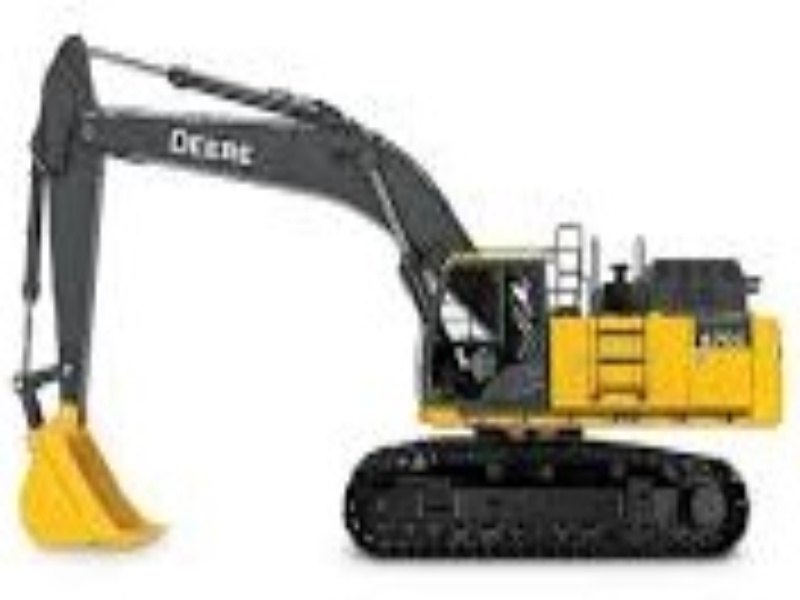wajueji: (284, 168, 800, 591)
